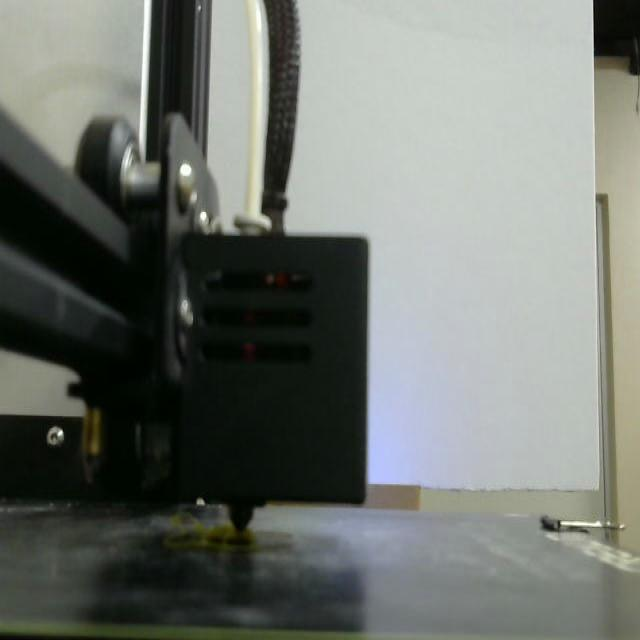spaghetti: (162, 512, 255, 551)
